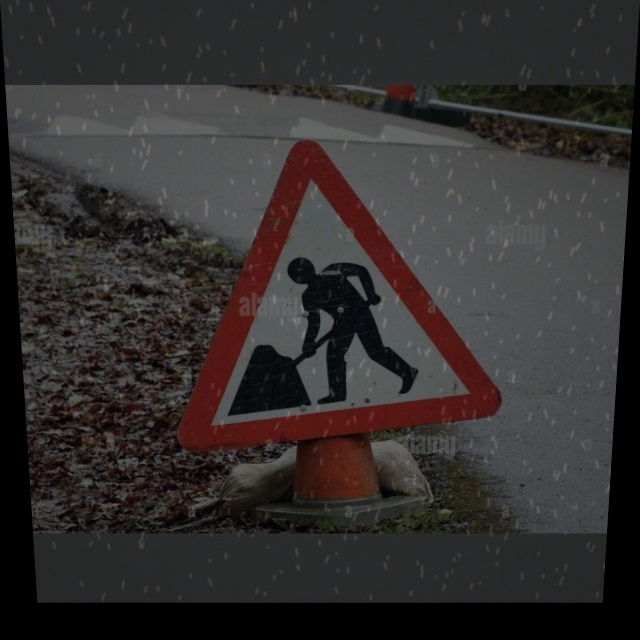Men_at_Work: (172, 145, 524, 443)
